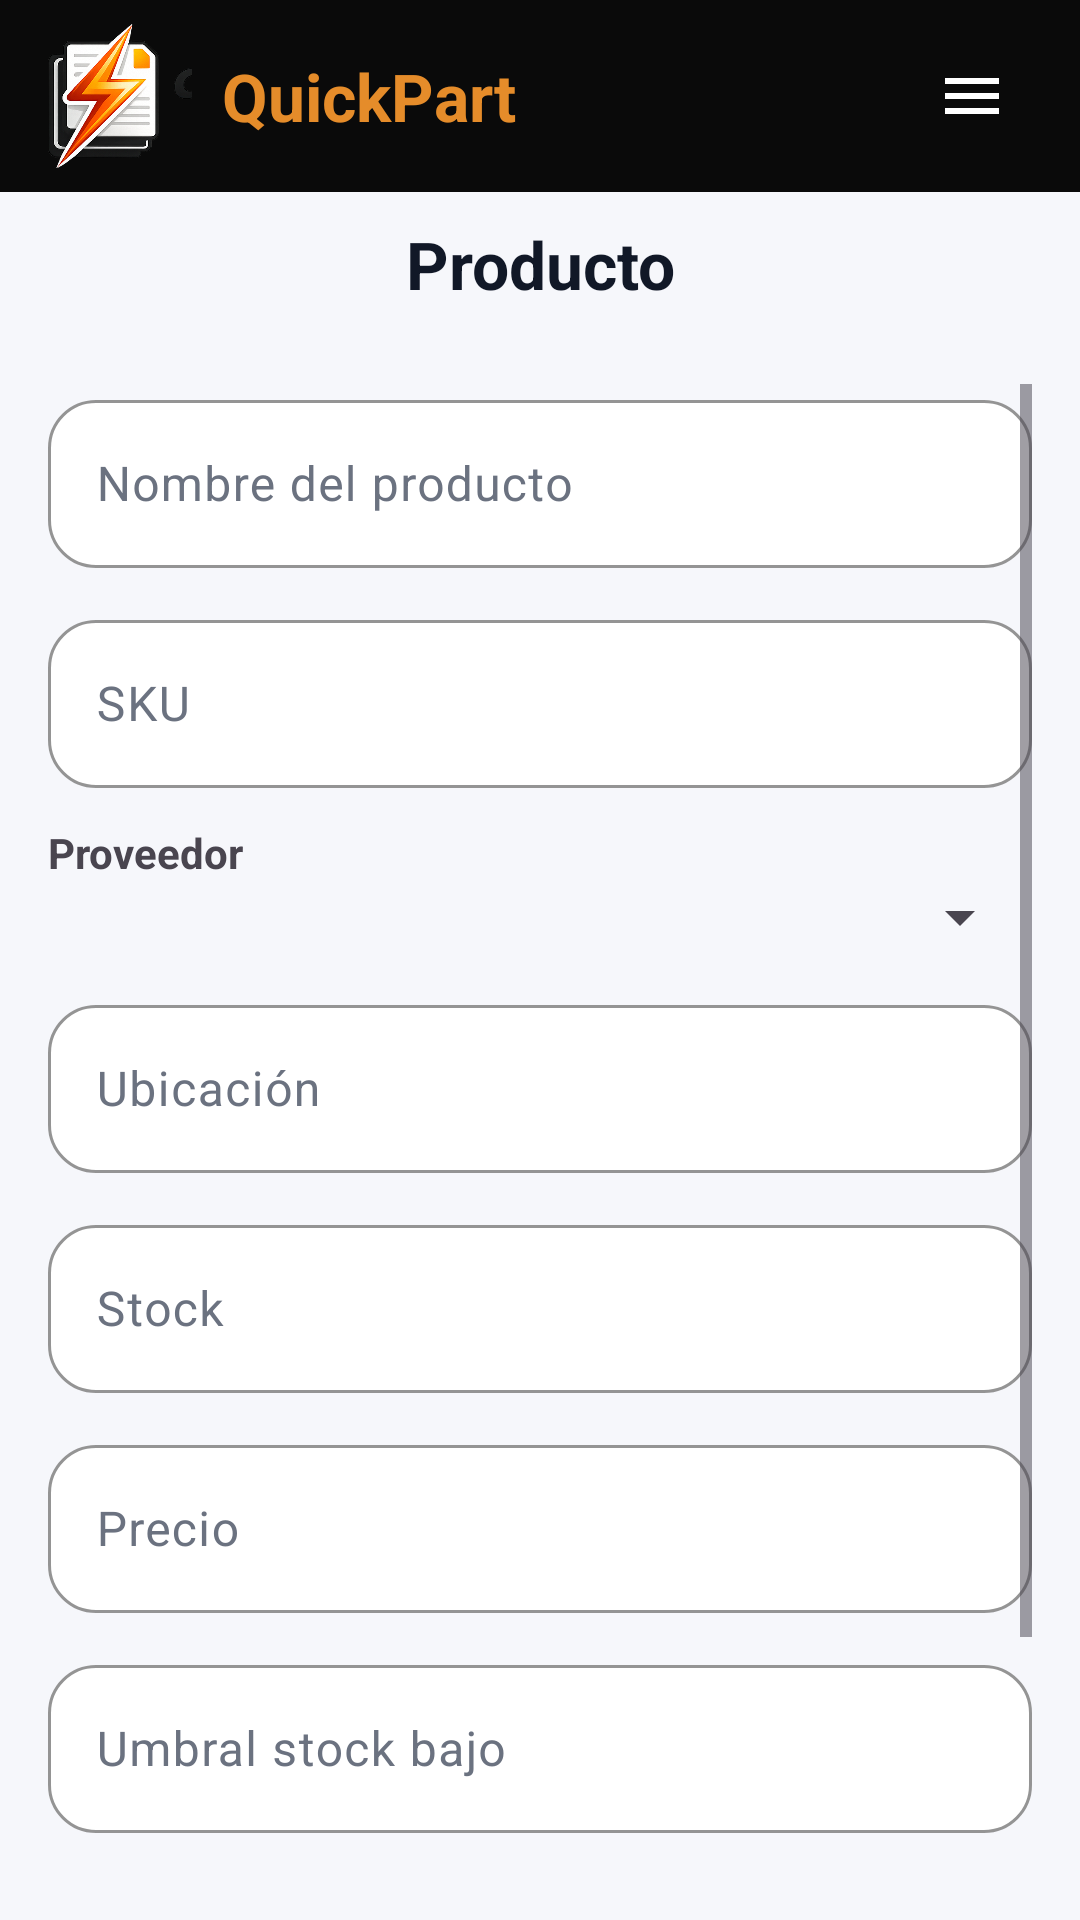

Named icons in this screenshot (1080 × 1920) and their centers, (x=x, y=y):
Menu: (x=972, y=96)
